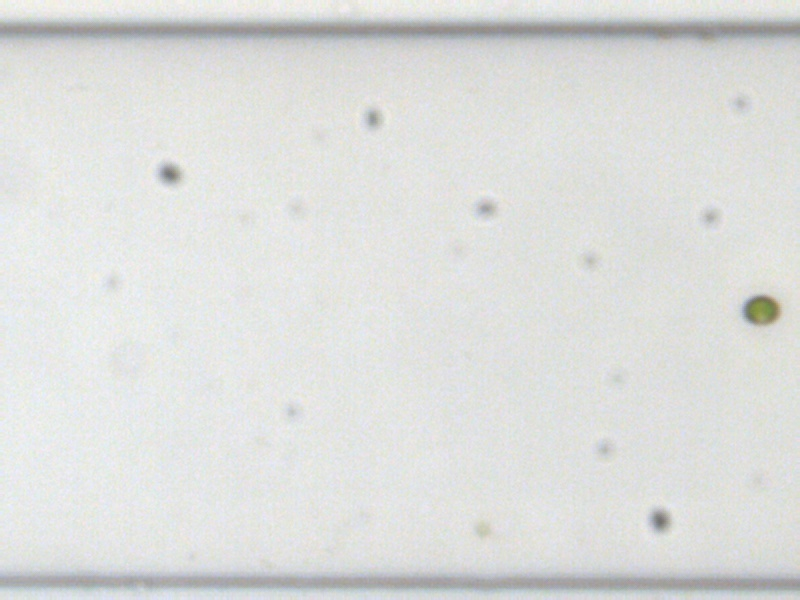Platymonas: (742, 292, 779, 326)
